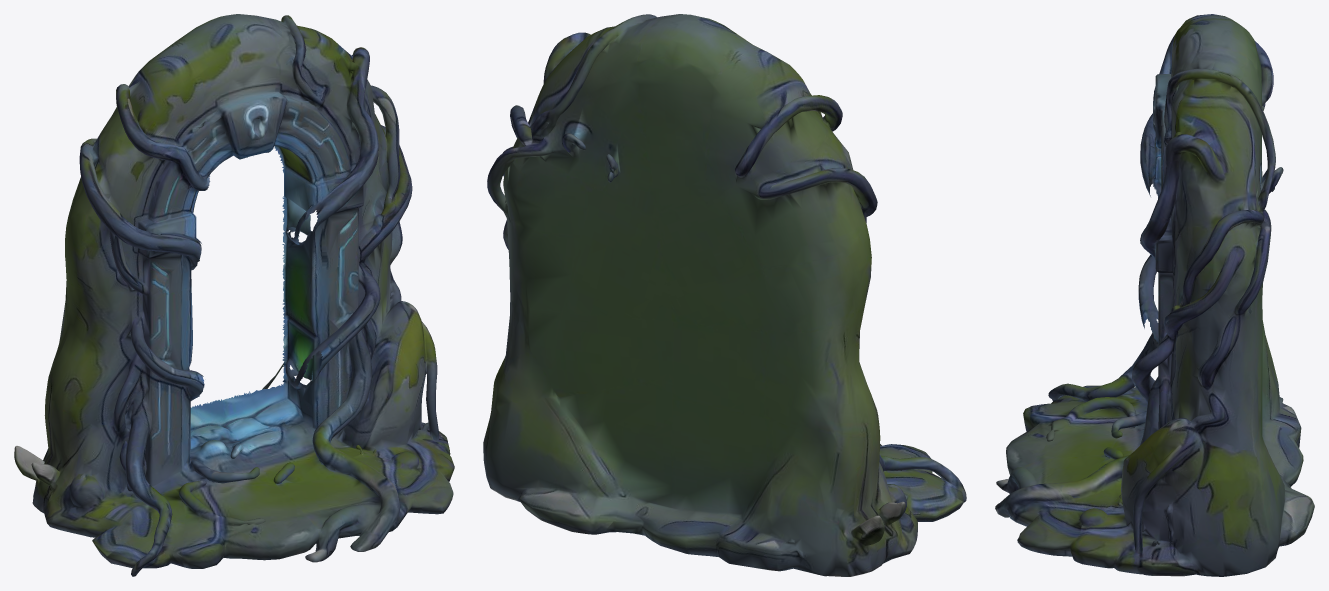
The picture shows the model from 3 angles, left to right: view 1: azimuth 30°, elevation 25°; view 2: azimuth 150°, elevation 25°; view 3: azimuth 270°, elevation 25°; orthographic projection. The views are drawn at different scales.
Parts seen in each view (by area): view 1: tripo_node_de37a6aa-dca3-46d3-93c1-4b76151fe559; view 2: tripo_node_de37a6aa-dca3-46d3-93c1-4b76151fe559; view 3: tripo_node_de37a6aa-dca3-46d3-93c1-4b76151fe559.
Part boxes in pixels (x1=…): tripo_node_de37a6aa-dca3-46d3-93c1-4b76151fe559: x1=14, y1=14, x2=454, y2=576; tripo_node_de37a6aa-dca3-46d3-93c1-4b76151fe559: x1=483, y1=14, x2=966, y2=576; tripo_node_de37a6aa-dca3-46d3-93c1-4b76151fe559: x1=995, y1=14, x2=1314, y2=576.
Size of the model in its own units: 0.8465 by 0.9997 by 0.5992.
1 material, 1 textured.
